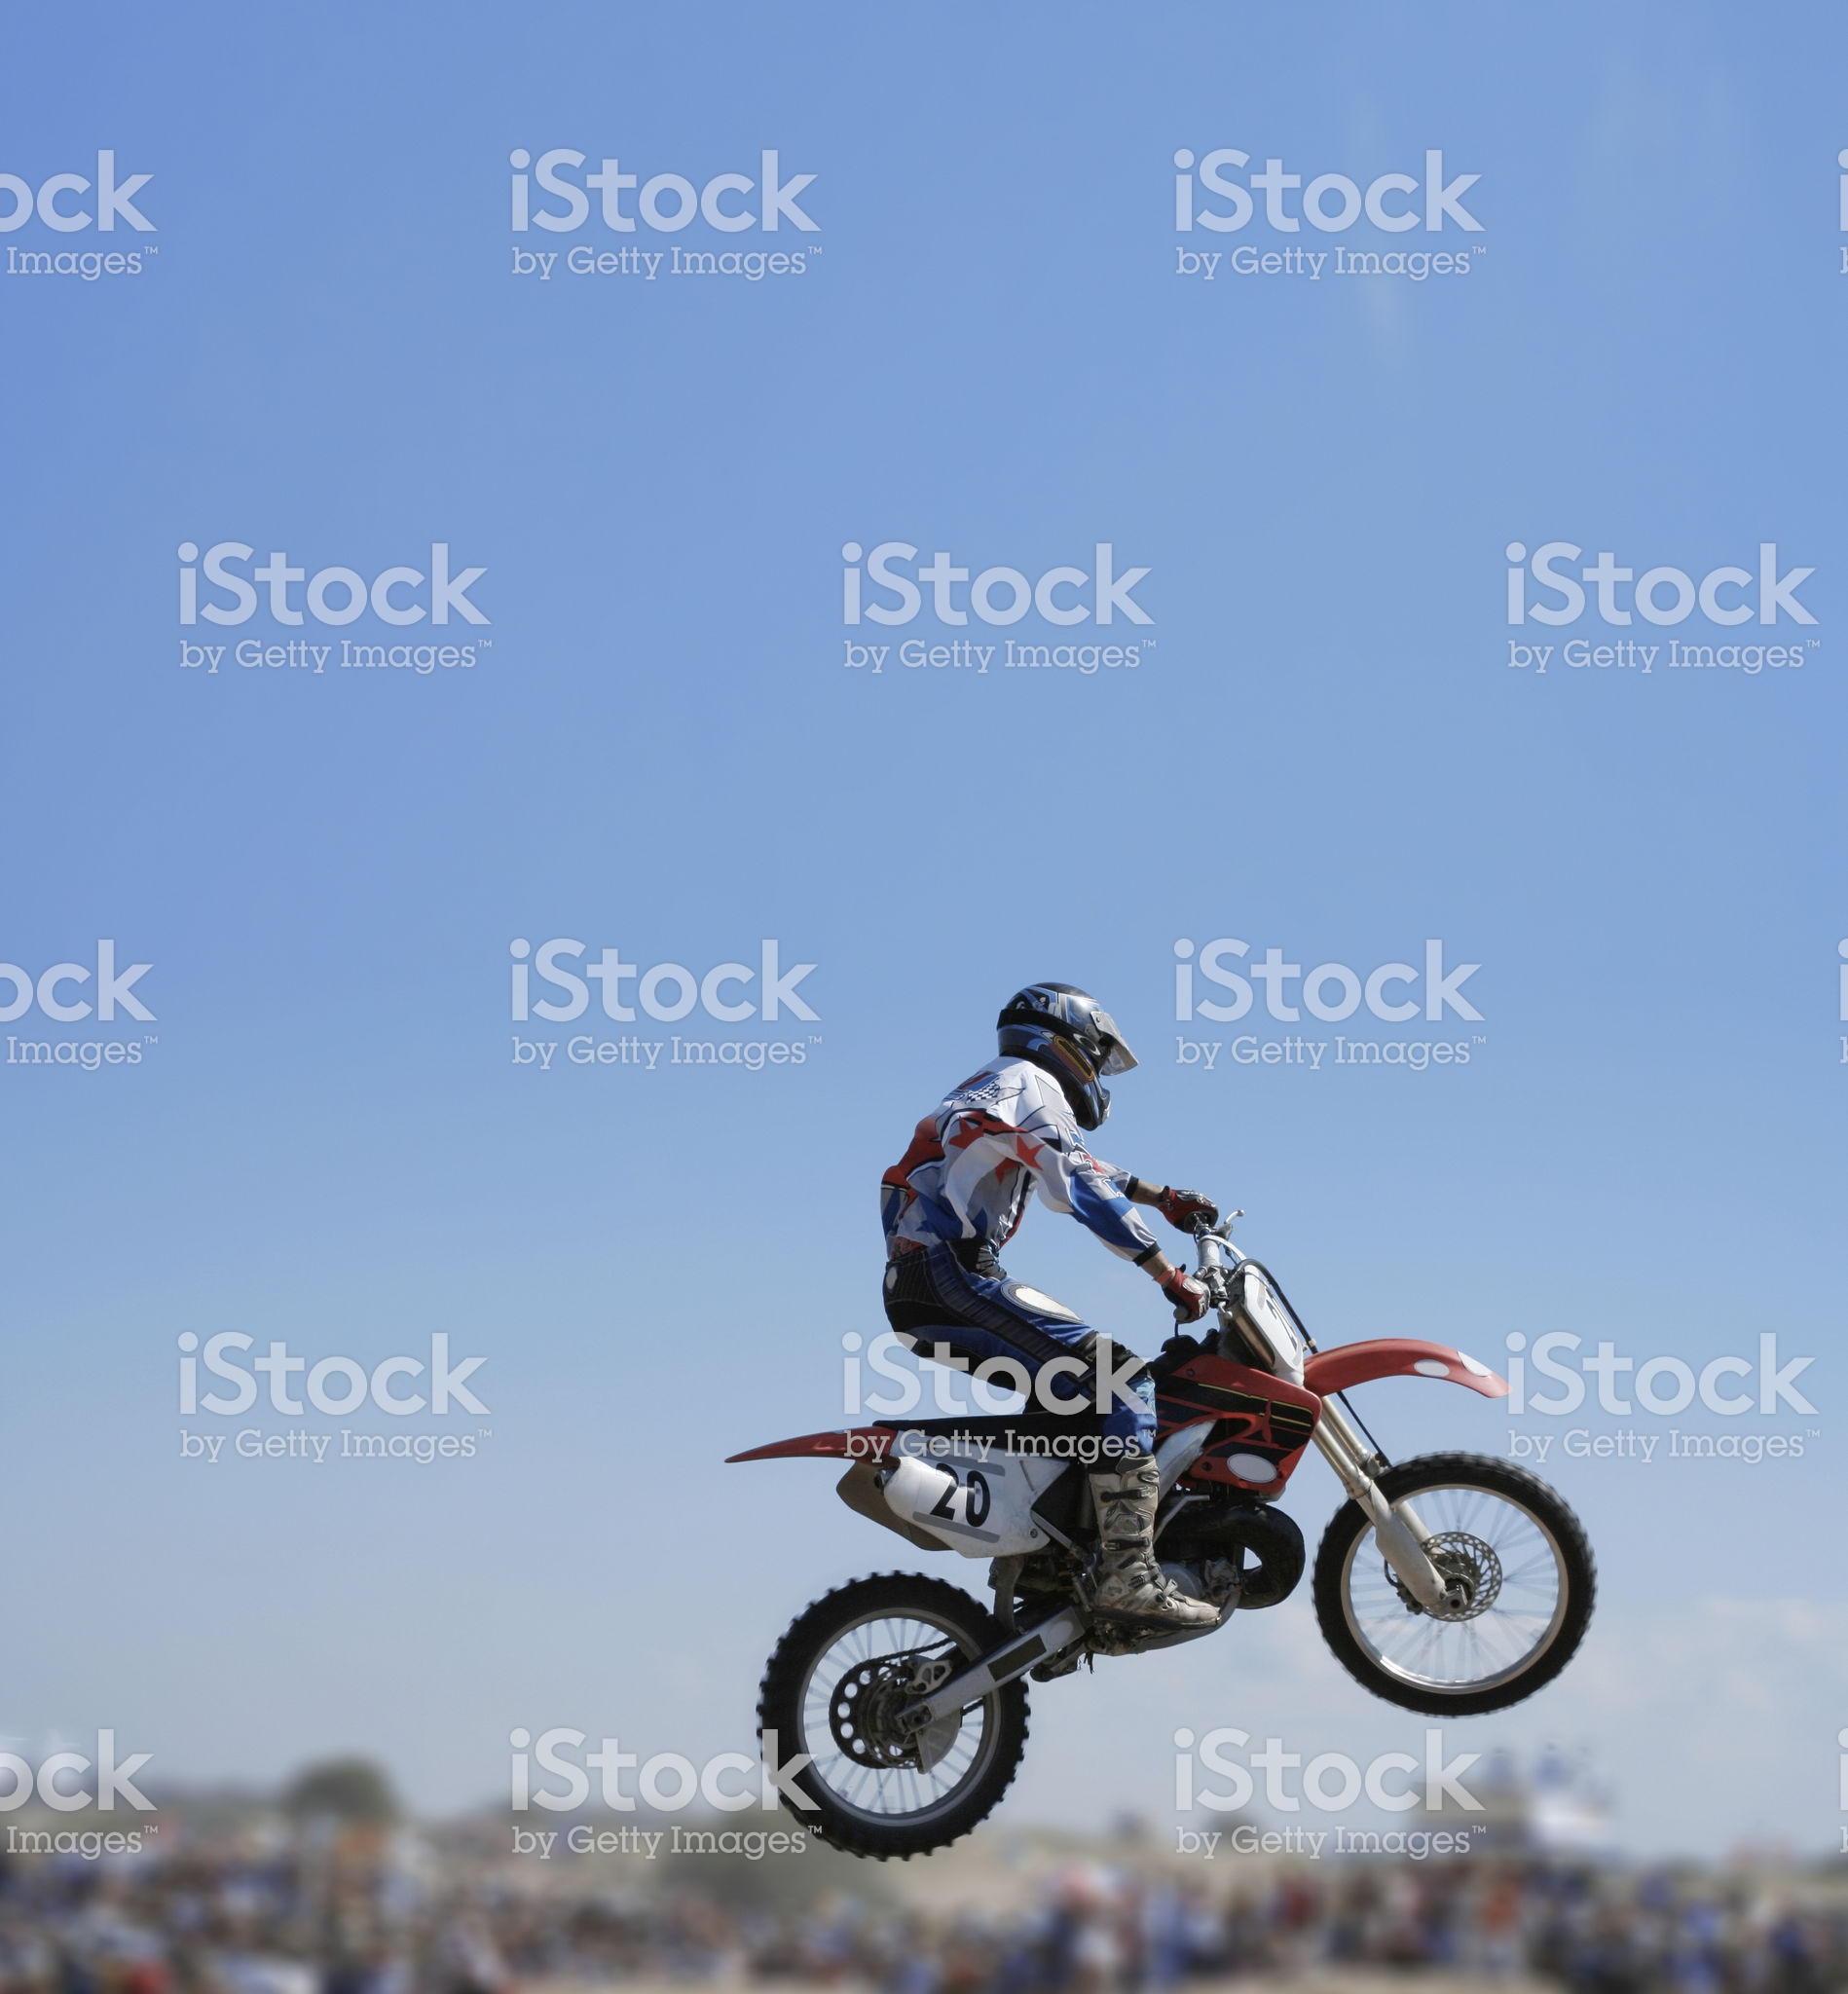helmet: (1011, 962, 1131, 1117)
